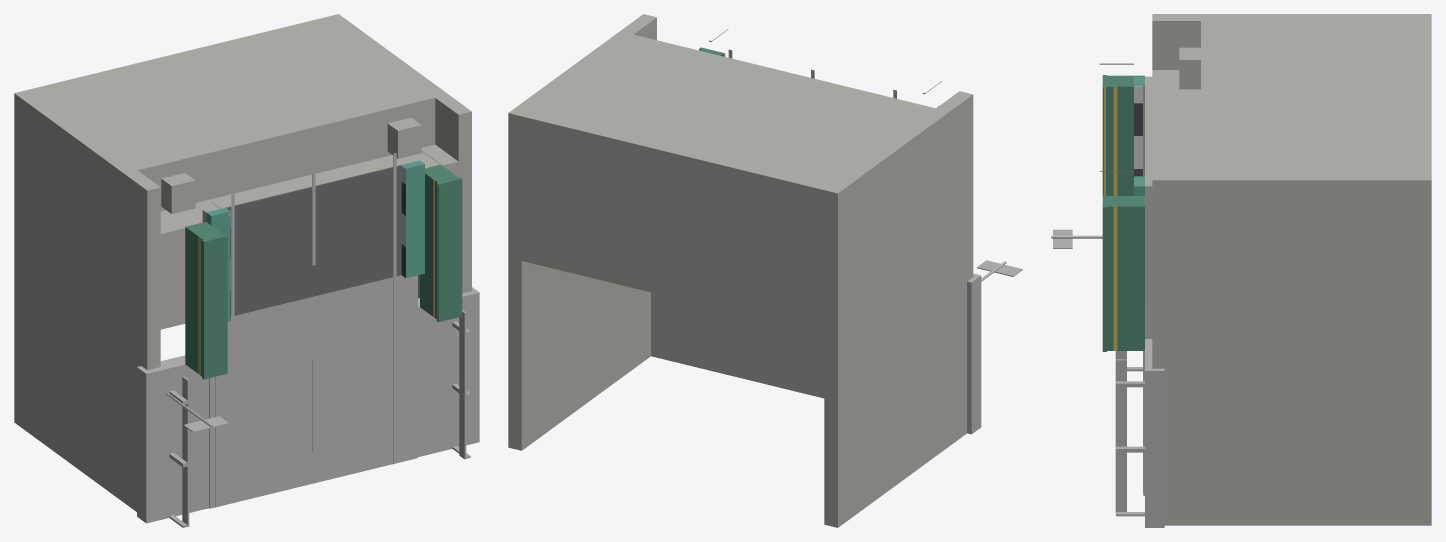
3 views of the same model, side by side, from view 1: azimuth 30°, elevation 25°; view 2: azimuth 150°, elevation 25°; view 3: azimuth 270°, elevation 25° (orthographic). The views are drawn at different scales.
Parts seen in each view (by area): view 1: AS_beton, AS_aspal_lantai, AS_aspal, AS_bahu_lantai, AS_parapet, AS_marka_putih_lantai, AS_kerb, AS_guardrail_lantai, AS_kuning, AS_marka_kuning_lantai; view 2: AS_beton, AS_aspal_lantai, AS_bahu_lantai; view 3: AS_beton, AS_parapet, AS_bahu_lantai, AS_guardrail_lantai, AS_kuning, AS_aspal_lantai, AS_putih.
Boxes of the visible parts, box(x1,y1,x2,y2) form: AS_beton: box(14, 14, 471, 511); AS_aspal_lantai: box(209, 275, 417, 508); AS_aspal: box(225, 165, 401, 316); AS_bahu_lantai: box(137, 287, 479, 523); AS_parapet: box(185, 164, 462, 379); AS_marka_putih_lantai: box(215, 153, 412, 507); AS_kerb: box(206, 160, 424, 321); AS_guardrail_lantai: box(169, 310, 470, 527); AS_kuning: box(198, 175, 455, 374); AS_marka_kuning_lantai: box(312, 172, 315, 452); AS_beton: box(508, 14, 973, 527); AS_aspal_lantai: box(696, 303, 824, 398); AS_bahu_lantai: box(651, 273, 981, 434); AS_beton: box(1145, 14, 1431, 525); AS_parapet: box(1102, 75, 1144, 351); AS_bahu_lantai: box(1145, 339, 1164, 527); AS_guardrail_lantai: box(1115, 351, 1144, 516); AS_kuning: box(1104, 86, 1117, 350); AS_aspal_lantai: box(1143, 301, 1152, 495); AS_putih: box(1134, 86, 1142, 168).
Size of the model in its own units: 11.2 by 10.57 by 10.55.
